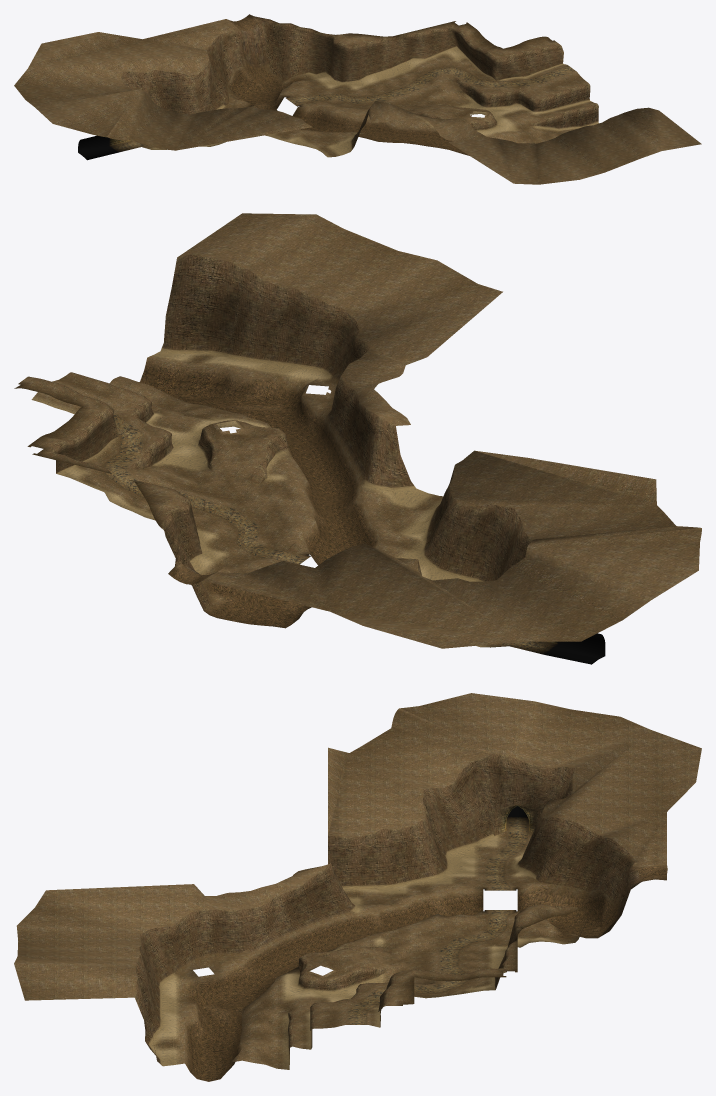
The model's file is Mission12_Zone01E.glb.
3 renders of one model, top to bottom at view 1: azimuth 30°, elevation 25°; view 2: azimuth 150°, elevation 25°; view 3: azimuth 270°, elevation 25°, orthographic. The views are drawn at different scales.
Visible parts, largest first — view 1: MISSION12_ZONE01E381, MISSION12_ZONE01E243, MISSION12_ZONE01E356, MISSION12_ZONE01E393, MISSION12_ZONE01E289, MISSION12_ZONE01E379, MISSION12_ZONE01E015, MISSION12_ZONE01E367, MISSION12_ZONE01E386, MISSION12_ZONE01E001, MISSION12_ZONE01E220, MISSION12_ZONE01E005 (+73 smaller); view 2: MISSION12_ZONE01E381, MISSION12_ZONE01E289, MISSION12_ZONE01E023, MISSION12_ZONE01E243, MISSION12_ZONE01E024, MISSION12_ZONE01E352, MISSION12_ZONE01E001, MISSION12_ZONE01E015, MISSION12_ZONE01E175, MISSION12_ZONE01E005, MISSION12_ZONE01E315, MISSION12_ZONE01E131 (+60 smaller); view 3: MISSION12_ZONE01E381, MISSION12_ZONE01E015, MISSION12_ZONE01E003, MISSION12_ZONE01E243, MISSION12_ZONE01E289, MISSION12_ZONE01E220, MISSION12_ZONE01E293, MISSION12_ZONE01E319, MISSION12_ZONE01E352, MISSION12_ZONE01E175, MISSION12_ZONE01E393, MISSION12_ZONE01E171 (+59 smaller).
Boxes of the visible parts, x1=… form: MISSION12_ZONE01E381: x1=29, y1=39, x2=206, y2=68; MISSION12_ZONE01E243: x1=53, y1=89, x2=139, y2=134; MISSION12_ZONE01E356: x1=29, y1=60, x2=208, y2=91; MISSION12_ZONE01E393: x1=29, y1=32, x2=141, y2=67; MISSION12_ZONE01E289: x1=35, y1=89, x2=139, y2=123; MISSION12_ZONE01E379: x1=277, y1=23, x2=308, y2=80; MISSION12_ZONE01E015: x1=448, y1=137, x2=513, y2=183; MISSION12_ZONE01E367: x1=14, y1=68, x2=124, y2=85; MISSION12_ZONE01E386: x1=256, y1=23, x2=278, y2=77; MISSION12_ZONE01E001: x1=594, y1=125, x2=640, y2=172; MISSION12_ZONE01E220: x1=93, y1=89, x2=140, y2=140; MISSION12_ZONE01E005: x1=539, y1=141, x2=579, y2=184; MISSION12_ZONE01E381: x1=330, y1=546, x2=523, y2=641; MISSION12_ZONE01E289: x1=528, y1=545, x2=698, y2=599; MISSION12_ZONE01E023: x1=193, y1=257, x2=239, y2=353; MISSION12_ZONE01E243: x1=529, y1=542, x2=699, y2=570; MISSION12_ZONE01E024: x1=174, y1=254, x2=220, y2=353; MISSION12_ZONE01E352: x1=509, y1=569, x2=622, y2=641; MISSION12_ZONE01E001: x1=272, y1=229, x2=397, y2=282; MISSION12_ZONE01E015: x1=371, y1=292, x2=502, y2=357; MISSION12_ZONE01E175: x1=450, y1=484, x2=653, y2=506; MISSION12_ZONE01E005: x1=343, y1=260, x2=477, y2=308; MISSION12_ZONE01E315: x1=526, y1=557, x2=650, y2=620; MISSION12_ZONE01E131: x1=455, y1=450, x2=654, y2=504; MISSION12_ZONE01E381: x1=565, y1=730, x2=666, y2=817; MISSION12_ZONE01E015: x1=47, y1=884, x2=193, y2=912; MISSION12_ZONE01E003: x1=14, y1=964, x2=133, y2=1000; MISSION12_ZONE01E243: x1=420, y1=693, x2=503, y2=753; MISSION12_ZONE01E289: x1=471, y1=693, x2=533, y2=753; MISSION12_ZONE01E220: x1=392, y1=706, x2=502, y2=753; MISSION12_ZONE01E293: x1=491, y1=754, x2=517, y2=837; MISSION12_ZONE01E319: x1=513, y1=758, x2=549, y2=837; MISSION12_ZONE01E352: x1=532, y1=709, x2=619, y2=763; MISSION12_ZONE01E175: x1=350, y1=754, x2=425, y2=828; MISSION12_ZONE01E393: x1=650, y1=730, x2=695, y2=811; MISSION12_ZONE01E171: x1=362, y1=728, x2=457, y2=773.
Bounding box in the file's own units: 245 × 36.07 × 240.
Materials: 33 (33 with a texture image).
